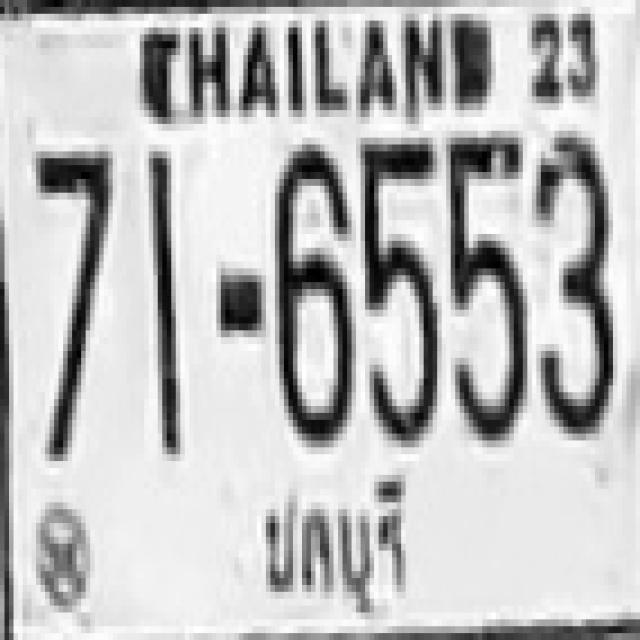1: (147, 148, 178, 444)
3: (532, 127, 608, 430)
5: (446, 130, 523, 434), (358, 137, 435, 440)
6: (270, 137, 352, 440)
7: (32, 145, 108, 454)
Chonburi: (243, 473, 417, 631)
